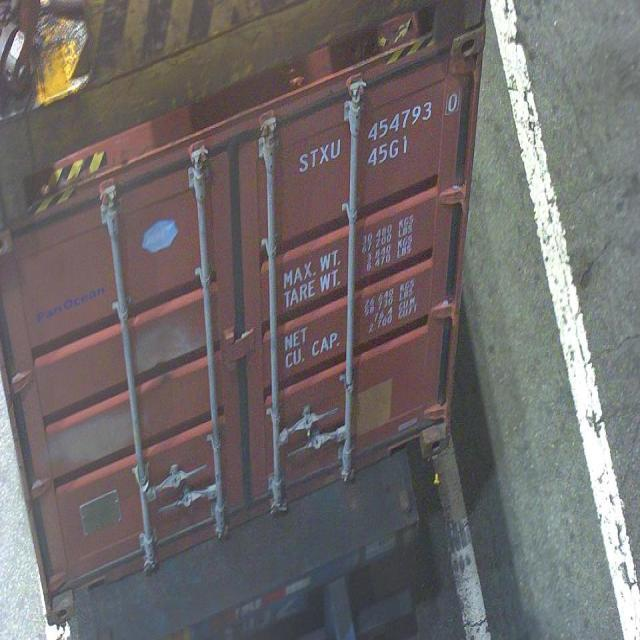ISO: (365, 130, 412, 168)
container_number: (297, 83, 460, 174)
